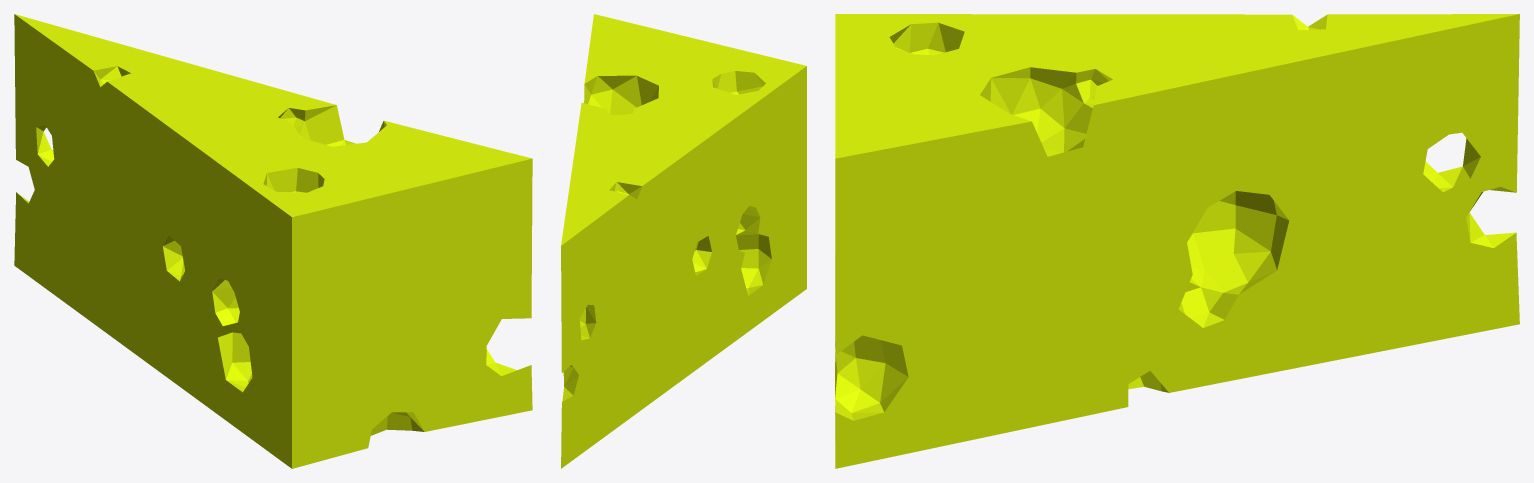
Rendered from cheese.obj.
The picture shows the model from 3 angles, left to right: view 1: azimuth 30°, elevation 25°; view 2: azimuth 150°, elevation 25°; view 3: azimuth 270°, elevation 25°; orthographic projection. The views are drawn at different scales.
Parts seen in each view (by area): view 1: Plane; view 2: Plane; view 3: Plane.
Part boxes in pixels (x1,y1,x2,y2): Plane: (14,14,532,468); Plane: (561,14,806,468); Plane: (835,14,1519,468).
Bounding box in the file's own units: 1 × 1 × 2.
